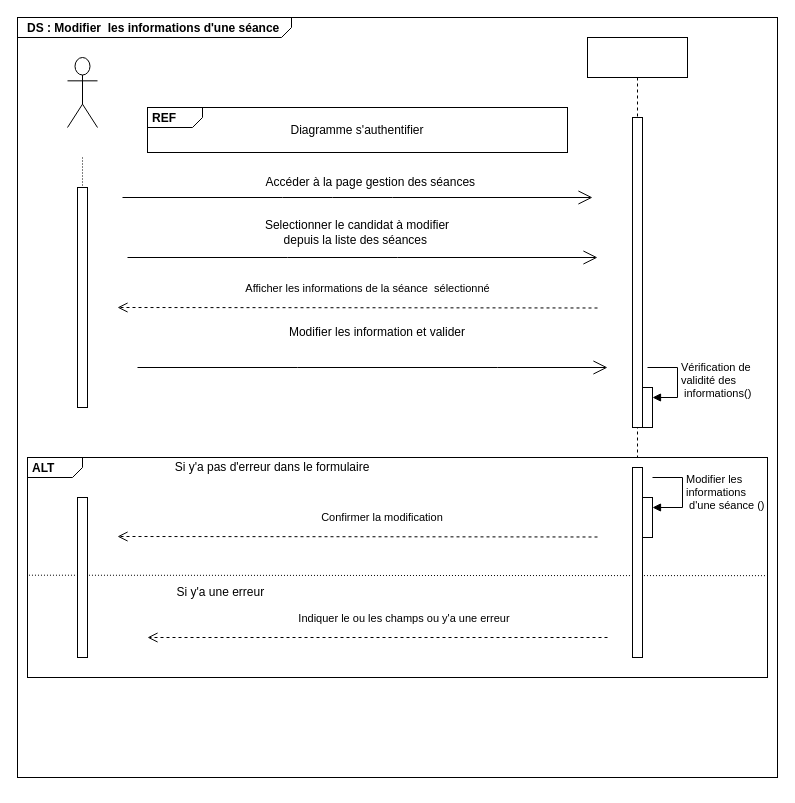
The diagram is 795 pixels wide and 803 high, and some of its shapes have lost their labels. Each missing label, with the box of its shape:
Secrétaire: (66, 56, 98, 128)
Système: (586, 36, 688, 458)
